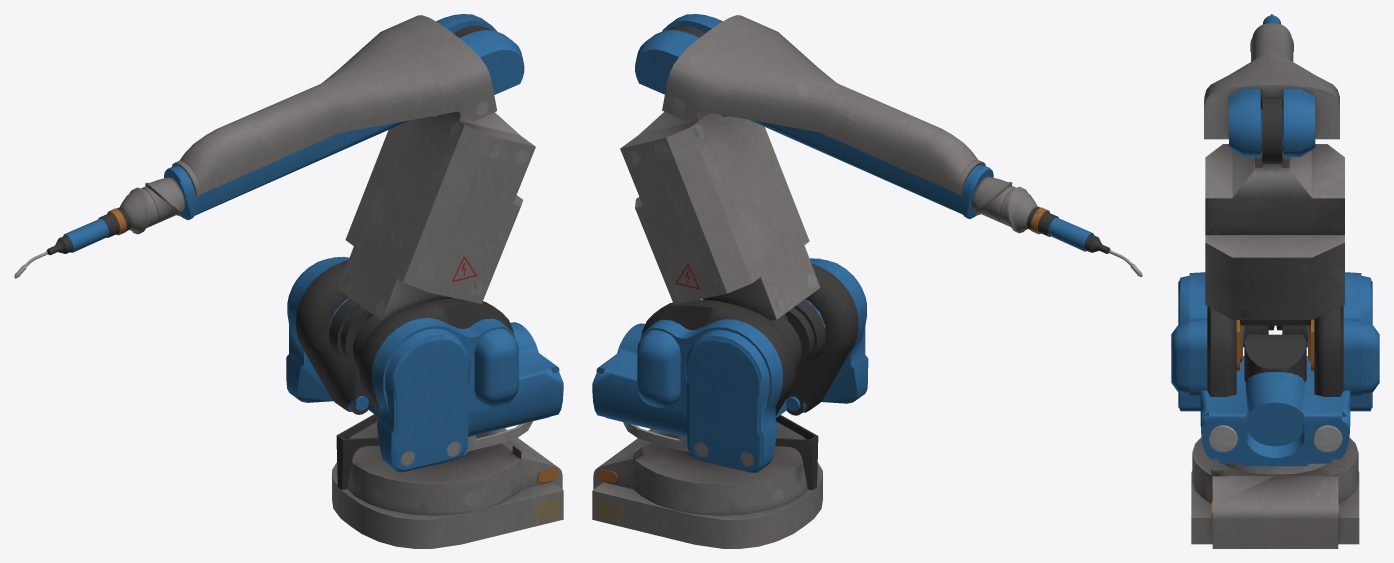
The model's file is IndustrialR_Arm.fbx.
3 views of the same model, side by side, from view 1: azimuth 30°, elevation 25°; view 2: azimuth 150°, elevation 25°; view 3: azimuth 270°, elevation 25° (orthographic). The views are drawn at different scales.
Visible parts, largest first — view 1: IndustrialR_Arm; view 2: IndustrialR_Arm; view 3: IndustrialR_Arm.
Boxes of the visible parts, box(x1,y1,x2,y2) form: IndustrialR_Arm: box(14, 14, 563, 548); IndustrialR_Arm: box(592, 14, 1142, 548); IndustrialR_Arm: box(1171, 14, 1379, 548).
Size of the model in its own units: 201 by 176 by 77.48.
